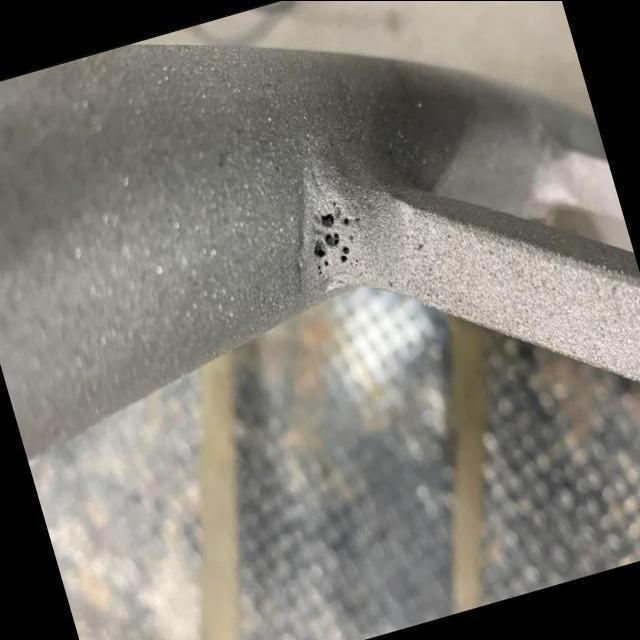defect: (311, 242, 331, 281), (320, 208, 338, 230), (324, 230, 340, 251), (339, 242, 350, 265), (341, 215, 350, 226), (352, 256, 360, 267), (354, 213, 362, 224), (347, 234, 355, 244)
